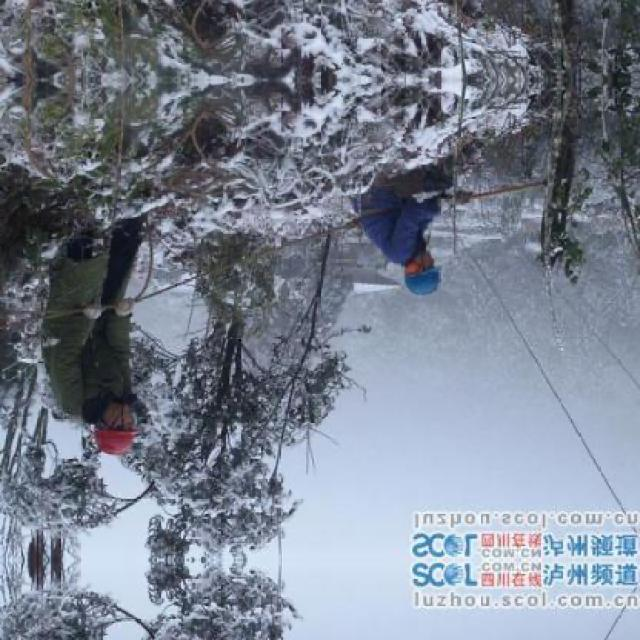con casco: (59, 389, 160, 489), (358, 236, 468, 308)
